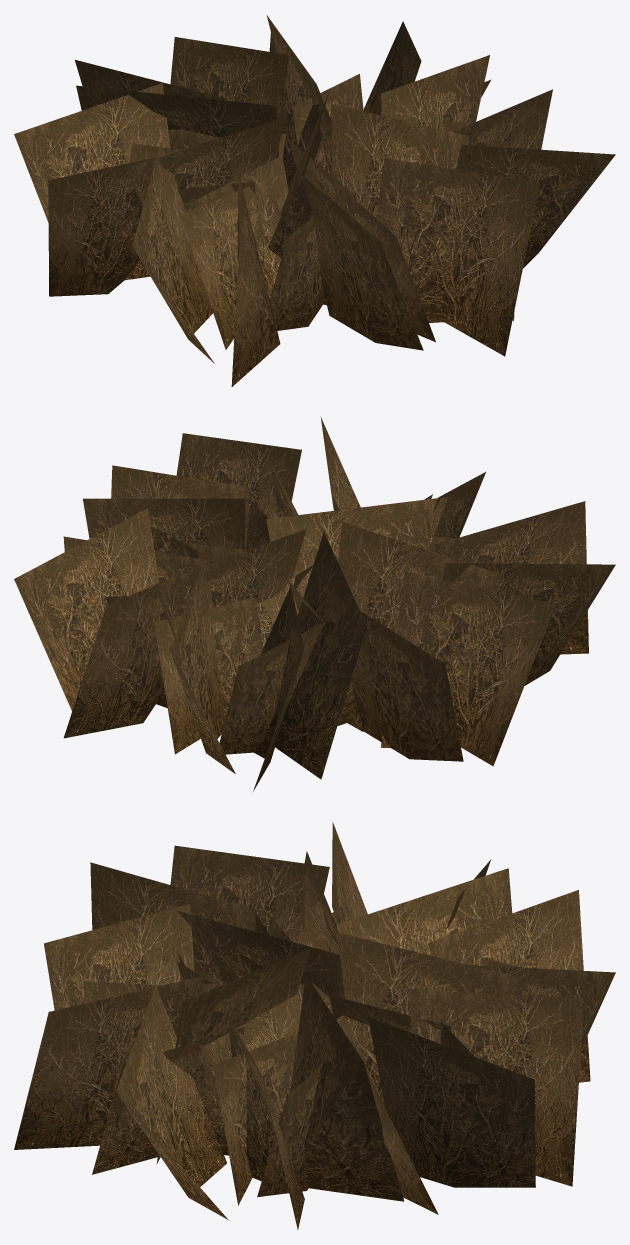
The model's file is grass2_21.glb.
The picture shows the model from 3 angles, top to bottom: view 1: azimuth 30°, elevation 25°; view 2: azimuth 150°, elevation 25°; view 3: azimuth 270°, elevation 25°; orthographic projection. The views are drawn at different scales.
Visible parts, largest first — view 1: grass2_21; view 2: grass2_21; view 3: grass2_21.
Part boxes in pixels (left/top/right/bottom): grass2_21: left=14, top=15, right=615, bottom=386; grass2_21: left=14, top=417, right=615, bottom=791; grass2_21: left=14, top=822, right=615, bottom=1229.
Bounding box in the file's own units: 5.55 × 1.85 × 5.56.
Materials: 1 (1 with a texture image).
